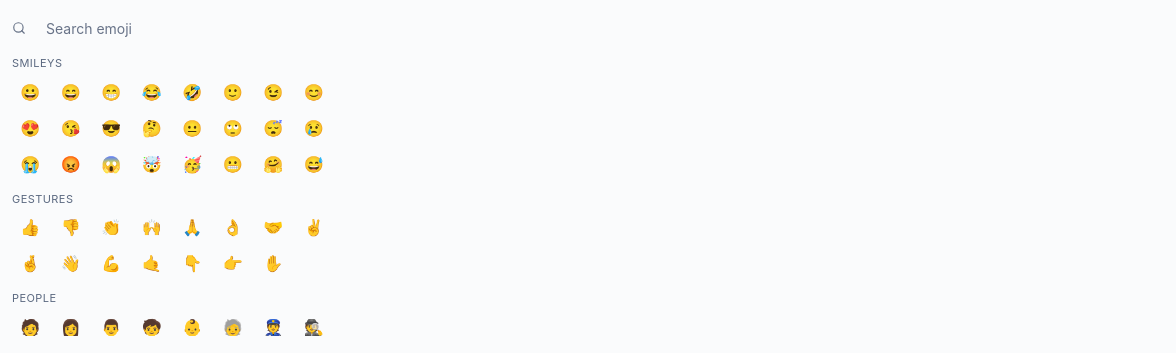
Test case: shows the no-results message when nothing matches
The image size is (1176, 353).
Type "zzzqqqxyz" into the field.
click(599, 28); type("zzzqqqxyz")  # box [34, 12, 1164, 44]
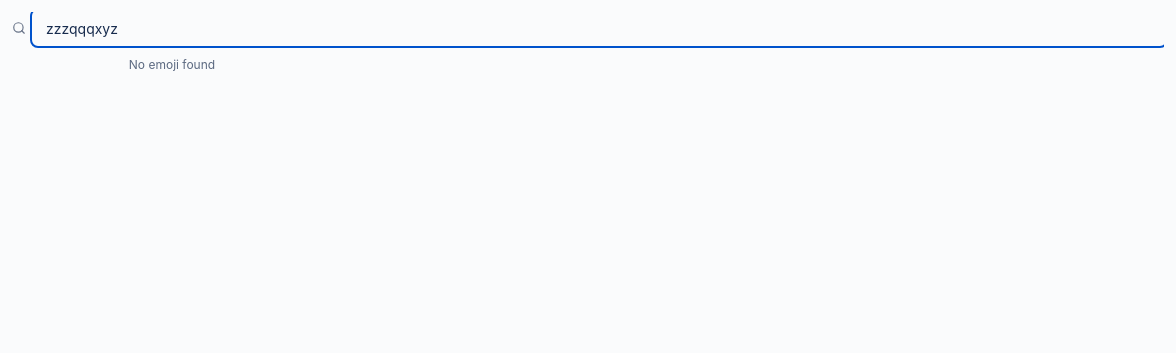
Now the text "No emoji found" is shown, box [129, 57, 215, 72]
